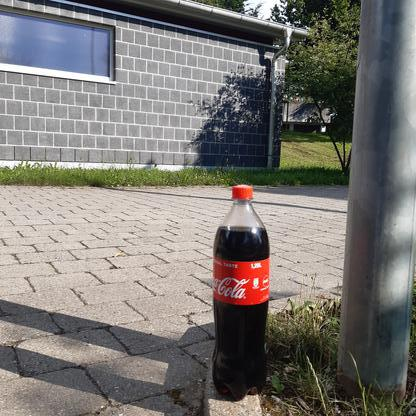coca-cola: (210, 183, 271, 403)
